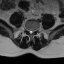CCS_stenosis: (30, 28, 32, 36)
LFS_stenosis: (33, 27, 36, 33)
LLS_normal: (32, 28, 33, 34)
RFS_stenosis: (26, 26, 28, 32)
RLS_normal: (28, 28, 30, 34)
